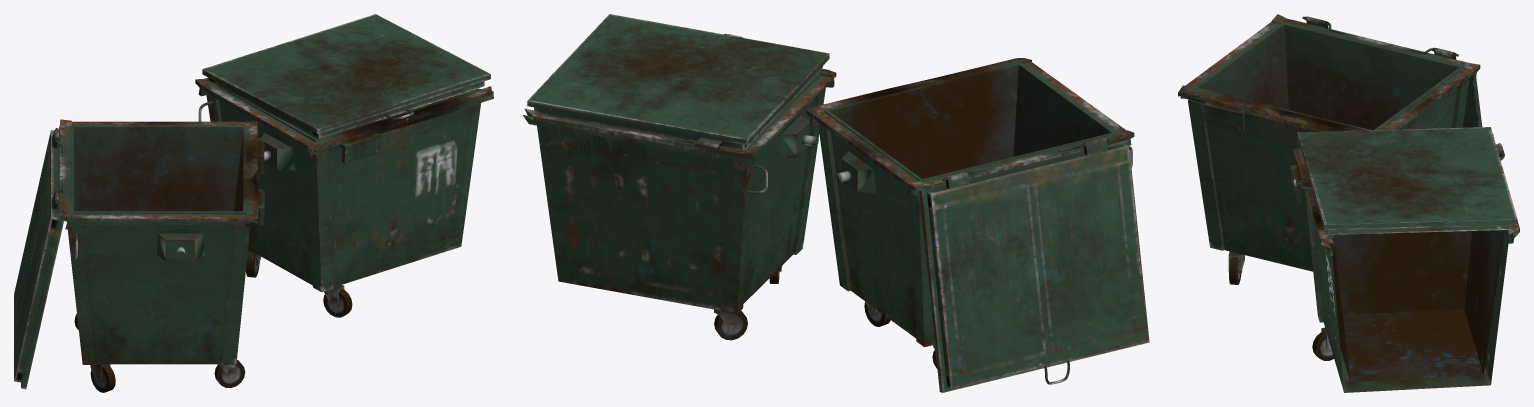
Rendered from trash-can-3836ff.glb.
3 renders of one model, left to right at view 1: azimuth 30°, elevation 25°; view 2: azimuth 150°, elevation 25°; view 3: azimuth 270°, elevation 25°, orthographic. The views are drawn at different scales.
Parts seen in each view (by area): view 1: PropMesh; view 2: PropMesh; view 3: PropMesh.
Part boxes in pixels (x1,y1,x2,y2): PropMesh: [14, 14, 493, 392]; PropMesh: [523, 14, 1149, 392]; PropMesh: [1178, 14, 1519, 392].
Bounding box in the file's own units: 3.1 × 1.25 × 1.85.
1 material, 1 textured.
